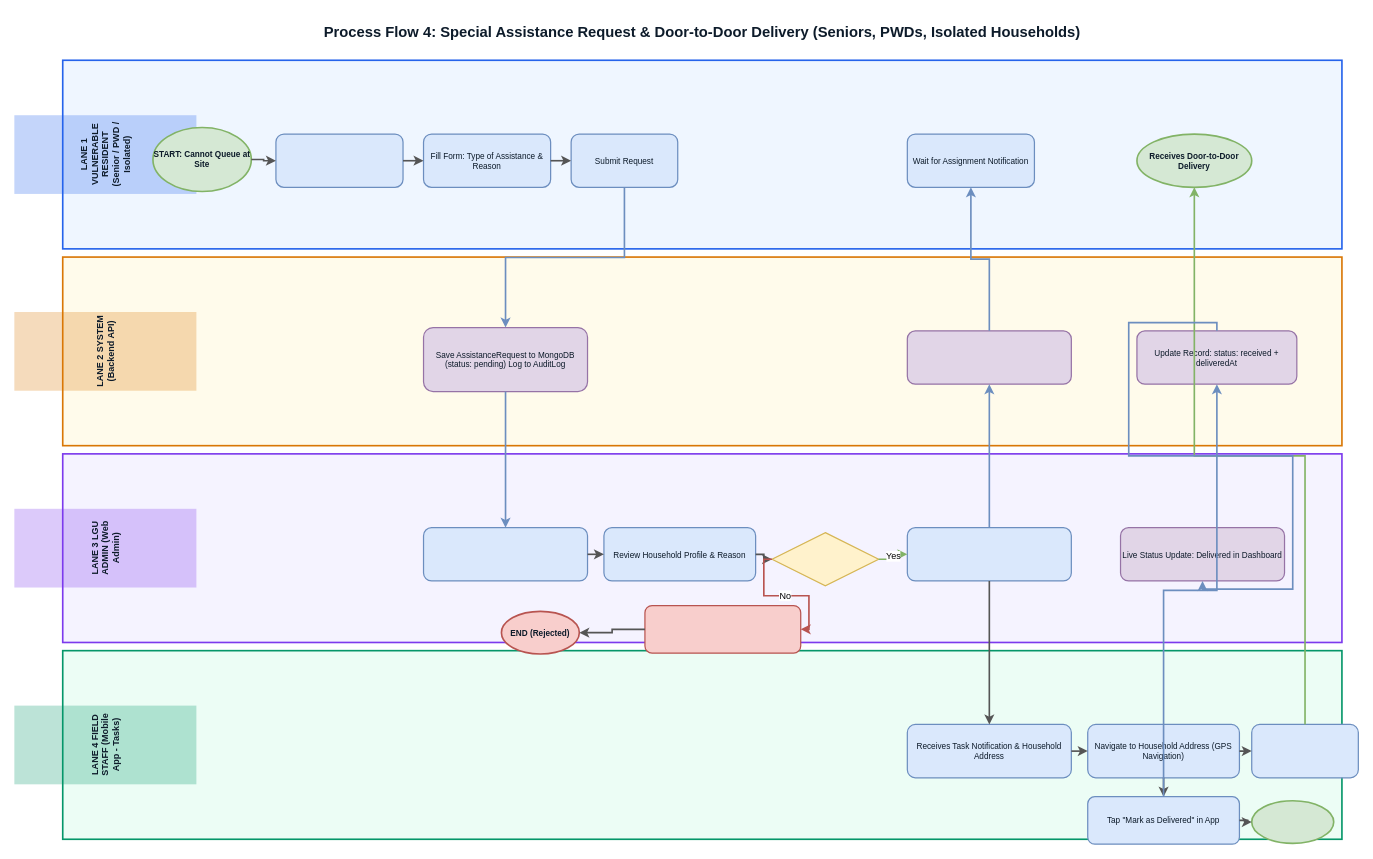
Image size: 1373x859. Some labels were removed from this diagram. Each missing label, with the box of its shape:
Approve Request?: (771, 532, 879, 586)
Assign Available Field Staff Officer to Delivery: (906, 527, 1072, 581)
Deliver Goods at Door: (1251, 723, 1359, 778)
END: (1250, 800, 1334, 844)
Mark REJECTED + Note Reason Notify Resident: (644, 605, 801, 653)
Open Assistance Request Screen in App: (275, 133, 403, 188)
Update Record: status: assigned + staffId + timestamp: (906, 330, 1072, 384)
View Special Request Queue (SpecialRequestRelief): (423, 527, 588, 581)
